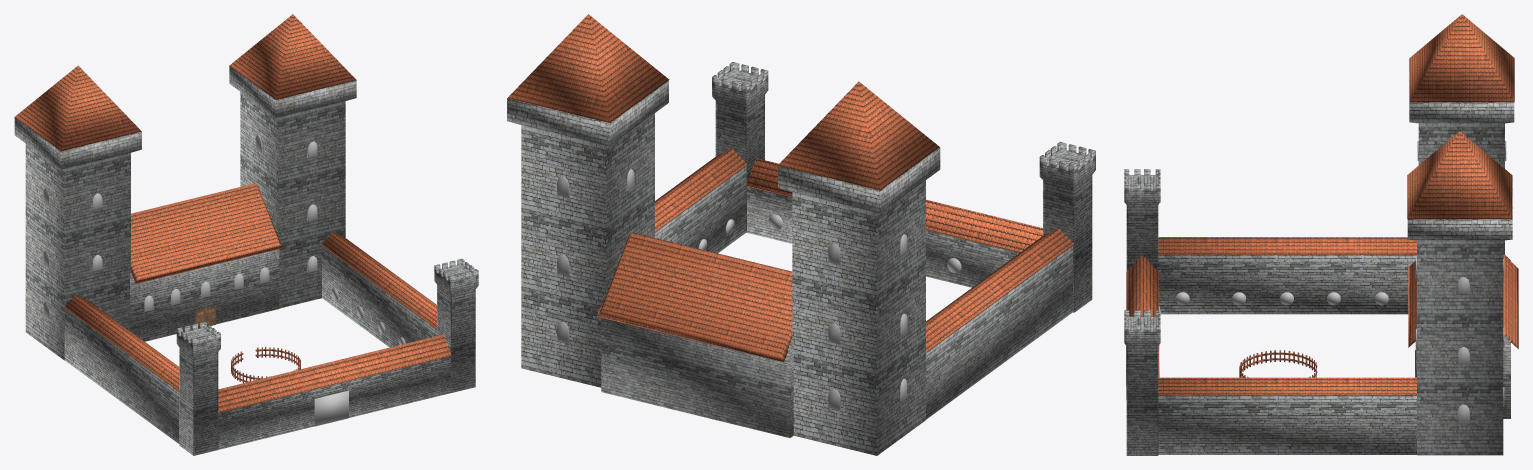
The model's file is Quartel_Level5.fbx.
3 views of the same model, side by side, from view 1: azimuth 30°, elevation 25°; view 2: azimuth 150°, elevation 25°; view 3: azimuth 270°, elevation 25° (orthographic). The views are drawn at different scales.
Parts seen in each view (by area): view 1: Cube.041, Cube.009, Cube.001, Cube, Cube.026, Cube.024, Cube.010, Cube.040, Cube.027, Cube.003, Cube.021, Cube.025 (+4 smaller); view 2: Cube.041, Cube.009, Cube.001, Cube, Cube.024, Cube.040, Cube.010, Cube.003, Cube.026, Cube.025, Cube.023, Cube.027 (+2 smaller); view 3: Cube.009, Cube.021, Cube.024, Cube.040, Cube.010, Cube.022, Cube.025, Cube.023, Cube.041, Cube.003, Cube.001, Cube.027 (+3 smaller).
Part boxes in pixels (x1,y1,x2,y2): Cube.041: [14, 117, 141, 360]; Cube.009: [229, 66, 356, 308]; Cube.001: [131, 183, 282, 283]; Cube: [130, 186, 279, 341]; Cube.026: [218, 356, 450, 449]; Cube.024: [64, 295, 179, 443]; Cube.010: [229, 14, 356, 99]; Cube.040: [14, 65, 141, 151]; Cube.027: [217, 334, 451, 412]; Cube.003: [176, 321, 220, 455]; Cube.021: [322, 245, 436, 347]; Cube.025: [434, 258, 478, 392]; Cube.041: [778, 147, 940, 455]; Cube.009: [507, 80, 668, 387]; Cube.001: [597, 232, 792, 361]; Cube: [601, 236, 793, 437]; Cube.024: [926, 245, 1072, 419]; Cube.040: [778, 81, 939, 190]; Cube.010: [507, 14, 669, 122]; Cube.003: [1039, 142, 1095, 312]; Cube.026: [747, 186, 1019, 287]; Cube.025: [712, 62, 768, 232]; Cube.023: [926, 228, 1073, 351]; Cube.027: [746, 158, 1042, 252]; Cube.009: [1407, 175, 1512, 455]; Cube.021: [1158, 395, 1416, 454]; Cube.024: [1158, 238, 1416, 314]; Cube.040: [1409, 14, 1514, 102]; Cube.010: [1407, 131, 1512, 219]; Cube.022: [1158, 377, 1416, 395]; Cube.025: [1124, 310, 1160, 455]; Cube.023: [1158, 237, 1416, 254]; Cube.041: [1409, 58, 1514, 254]; Cube.003: [1124, 169, 1160, 271]; Cube.001: [1408, 254, 1518, 348]; Cube.027: [1126, 255, 1158, 399].
Size of what is drawn, in the model's own units: 1219 by 1079 by 1259.
